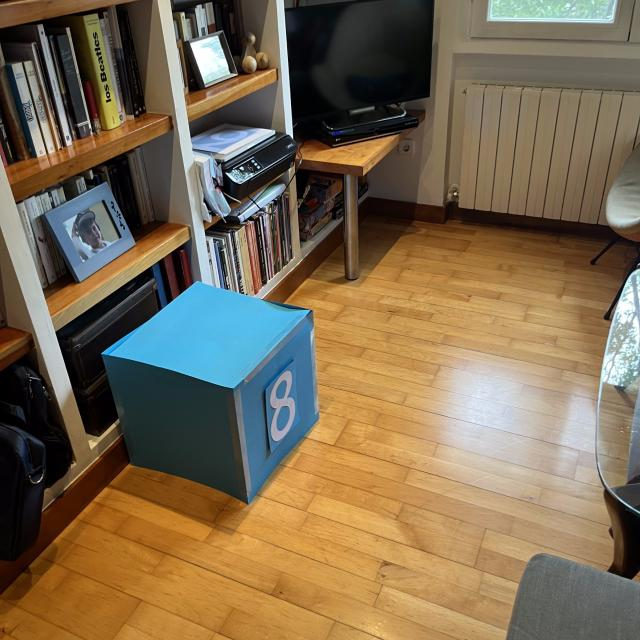box: (98, 277, 325, 506)
